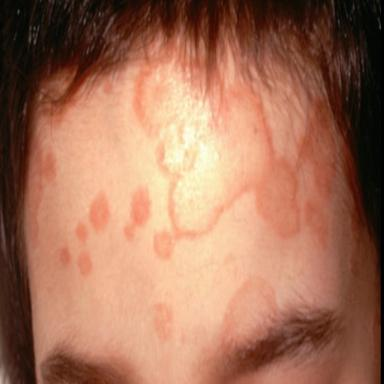Tinea-Corporis: (134, 65, 301, 238), (221, 276, 277, 348), (25, 140, 56, 243), (154, 232, 174, 258)
